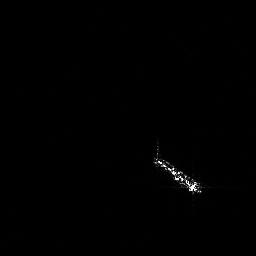ship: (154, 155, 201, 193)
